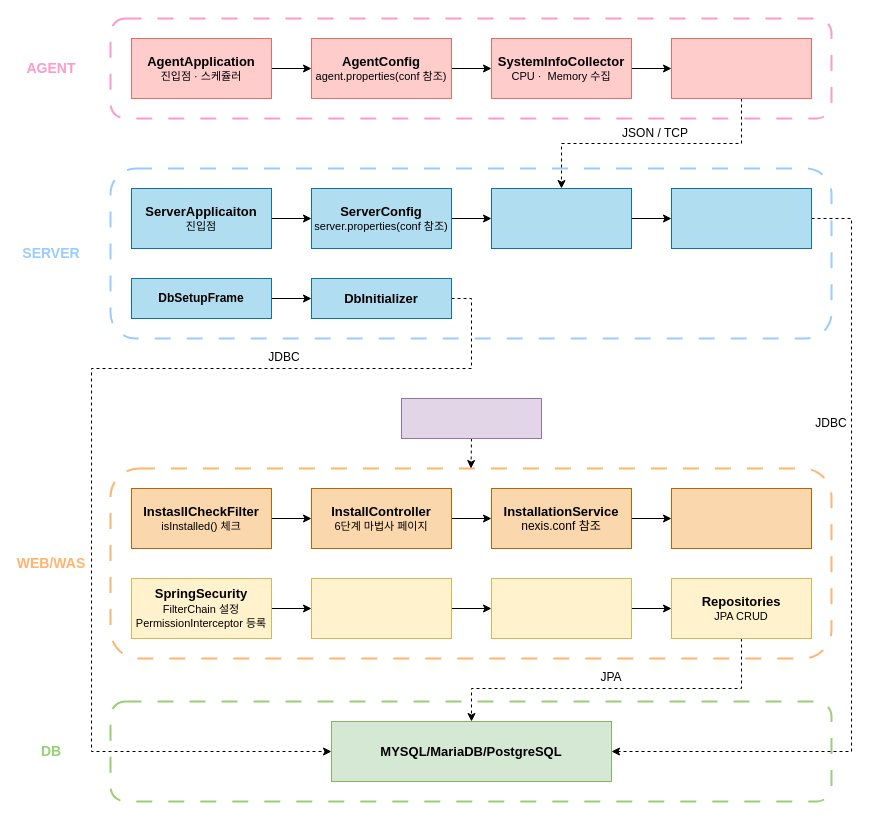
This 878x819 diagram has some shape labels left out. Each missing label, with the centre of its shape:
"Browser" goes at (x=471, y=418).
"Controllers Dashboard · Hosts 등" goes at (x=381, y=608).
"InstallApiController DB/서버 연결 테스트" goes at (x=741, y=518).
"Sender TCP 전송" goes at (x=741, y=68).
"Services Host · Trigger 등" goes at (x=561, y=608).
"TcpCollector 소켓 수신 루프" goes at (x=561, y=218).
"TcpCollectorDao 파싱 · DB 저장" goes at (x=741, y=218).
